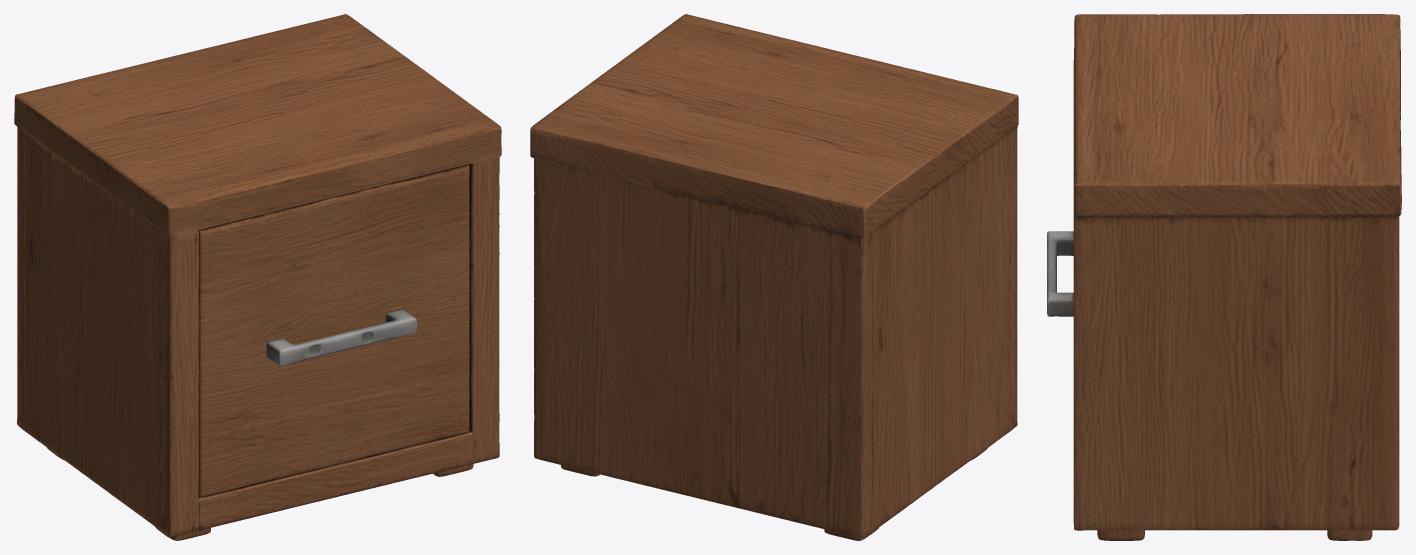
File: cabinet-raw.glb
The picture shows the model from 3 angles, left to right: view 1: azimuth 30°, elevation 25°; view 2: azimuth 150°, elevation 25°; view 3: azimuth 270°, elevation 25°; orthographic projection. The views are drawn at different scales.
Parts seen in each view (by area): view 1: world; view 2: world; view 3: world.
Boxes of the visible parts, x1=… form: world: x1=14, y1=14, x2=501, y2=540; world: x1=530, y1=14, x2=1018, y2=540; world: x1=1047, y1=14, x2=1401, y2=540.
Bounding box in the file's own units: 0.5 × 0.4994 × 0.4381.
Materials: 1 (1 with a texture image).
